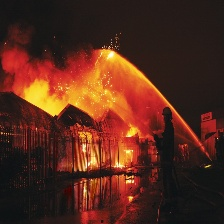fire: (75, 128, 139, 175)
smoke: (1, 26, 102, 118)
